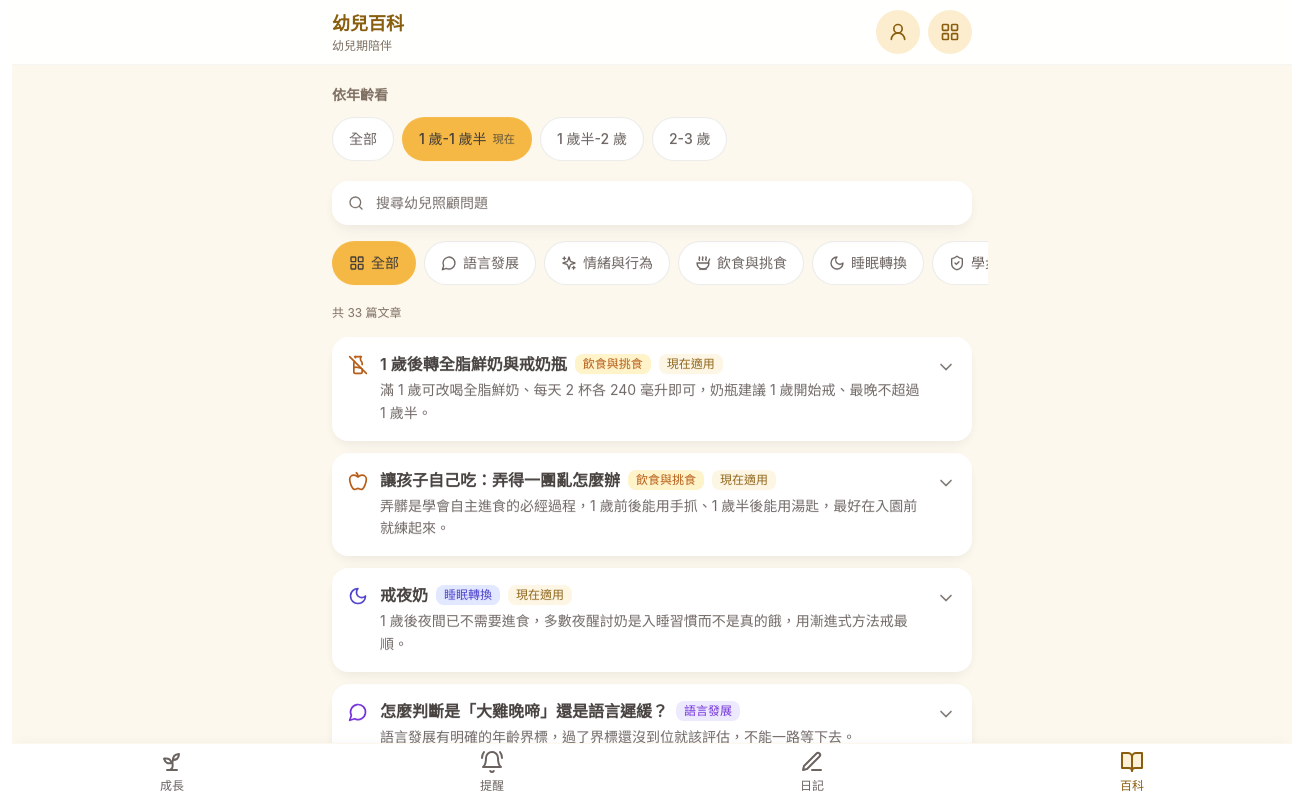
Test: ToddlerWikiPage › 年齡段裡沒有文章的分類就不畫籌碼
This screenshot has width=1304, height=800.
Check: the button "1 歲-1 歲半 現在" is shown, box [402,117,532,161]
Check: the button "如廁訓練" is not shown
Click the button "全部" below "依年齡看" at (363, 139), box [332,117,394,161]
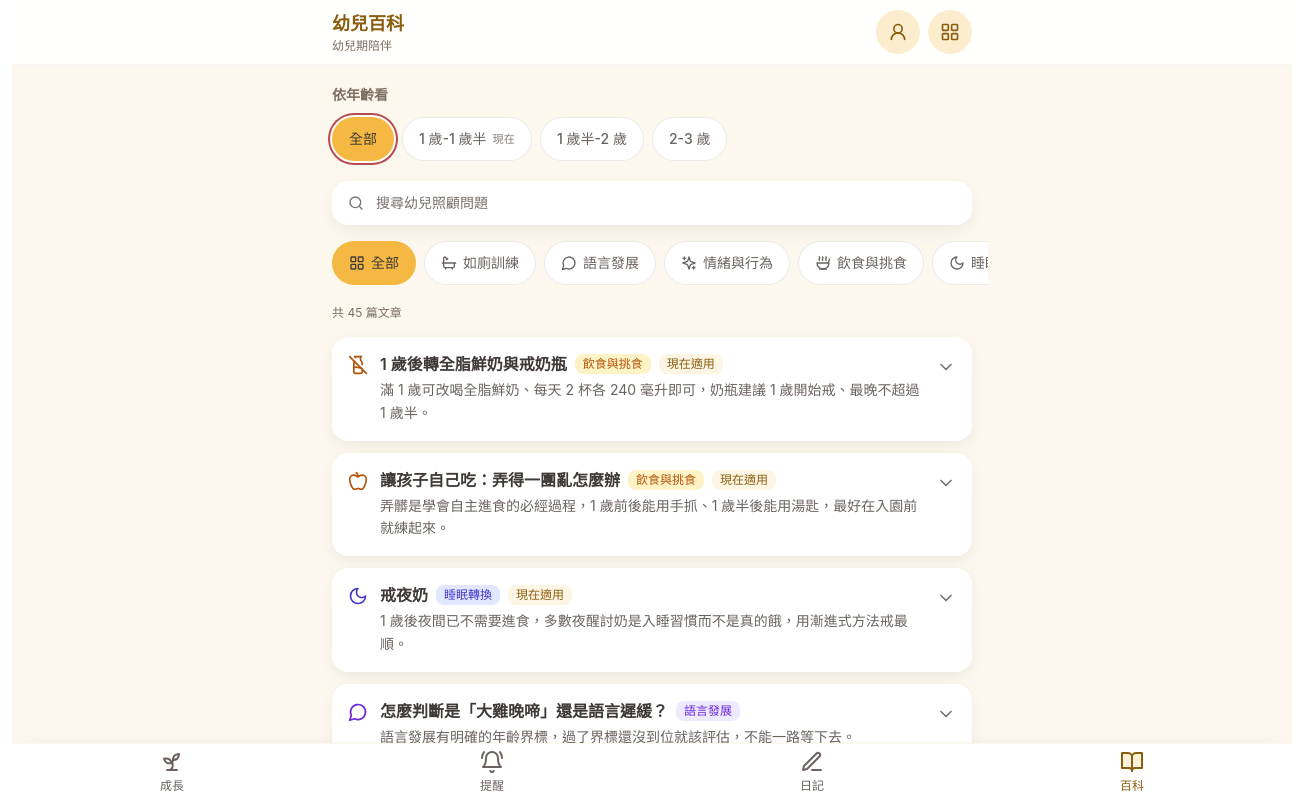
Check: the button "如廁訓練" is shown, box [424,241,536,285]
